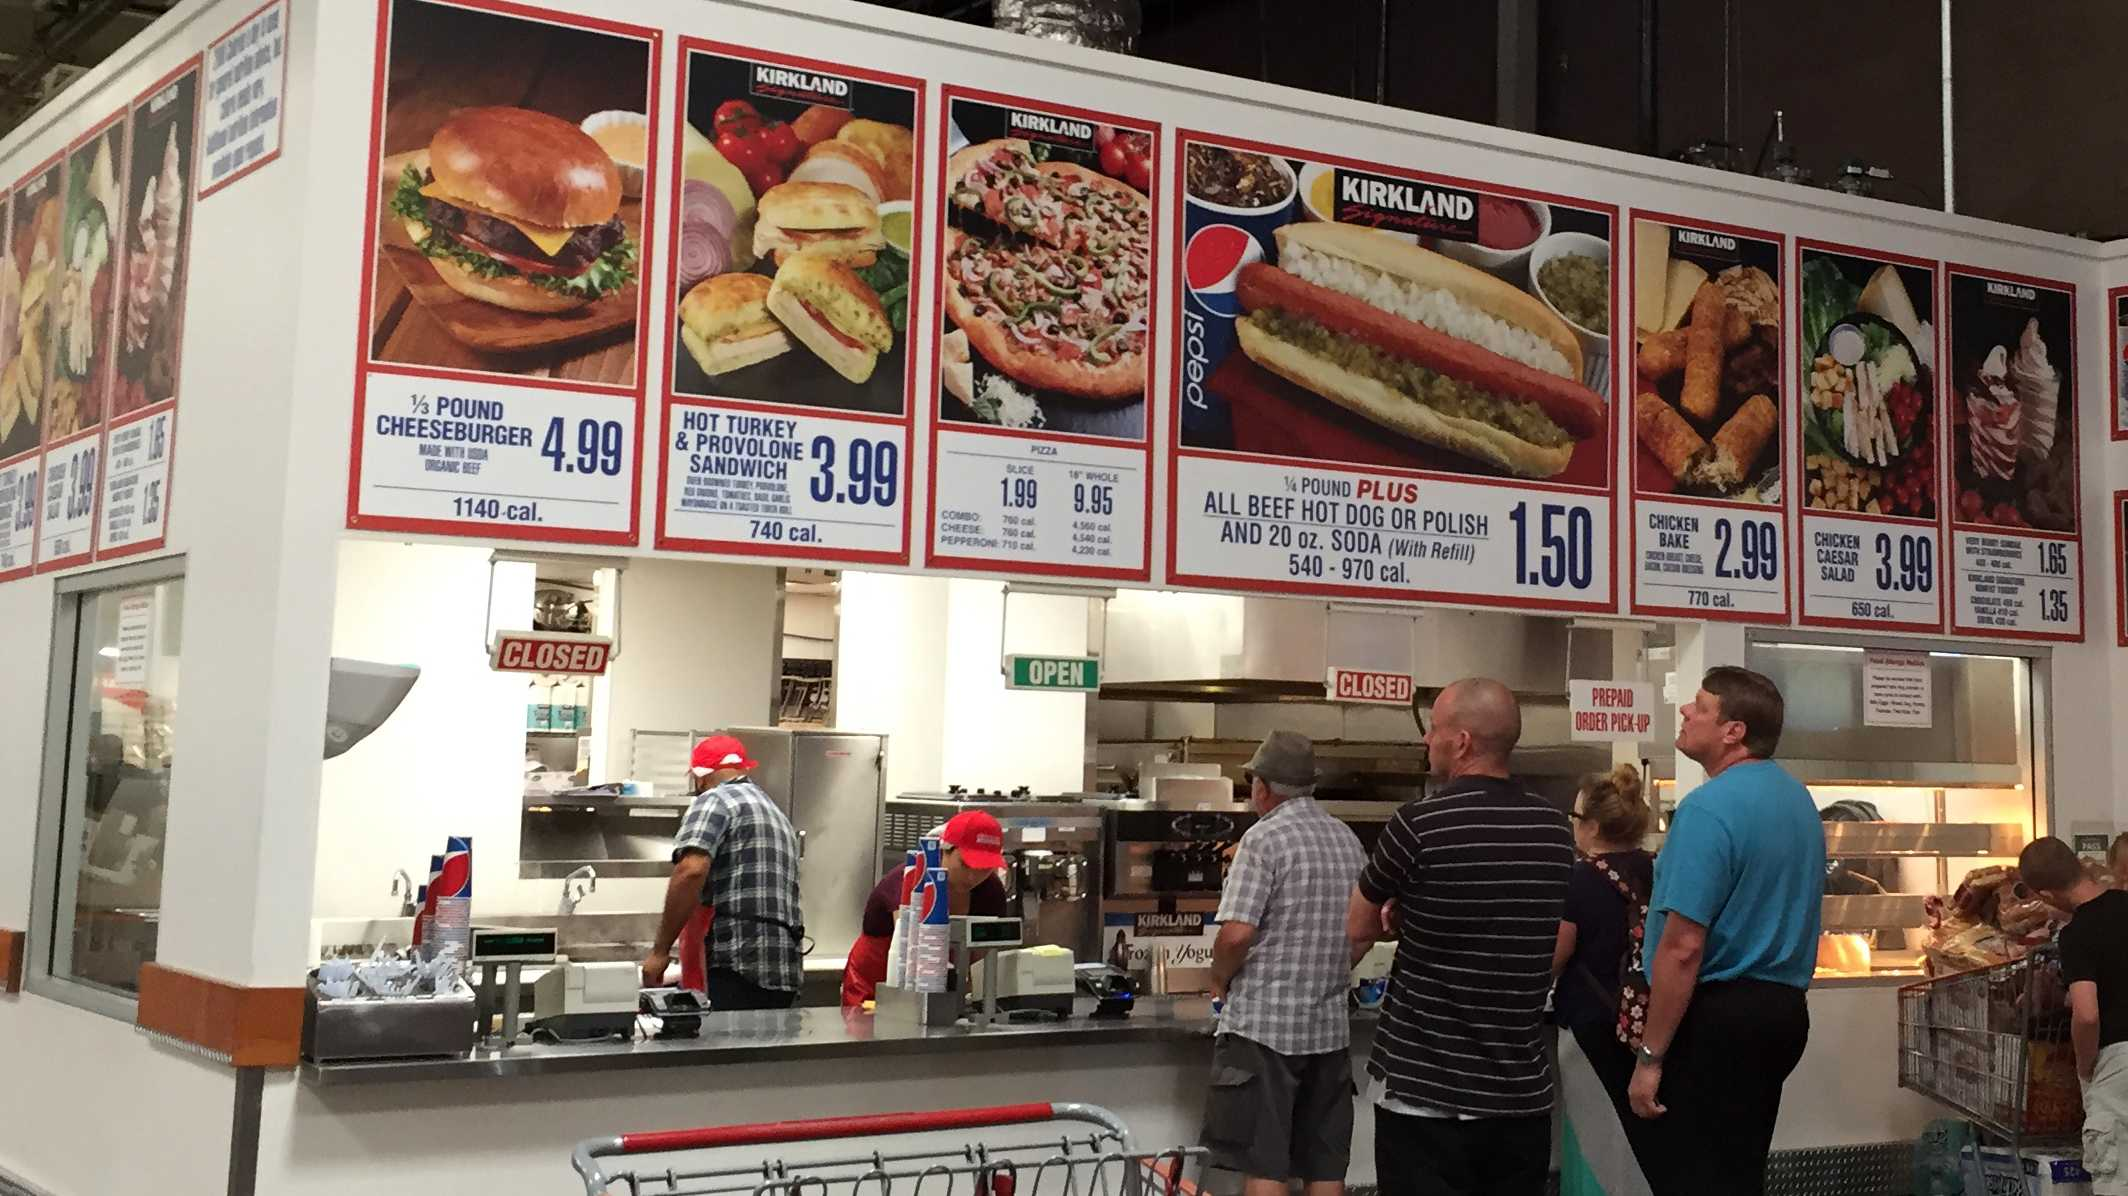Person: (1345, 678, 1577, 1196), (1623, 665, 1830, 1196), (1196, 727, 1373, 1195), (645, 733, 808, 1010), (2016, 834, 2128, 1196), (1555, 761, 1660, 1104)
